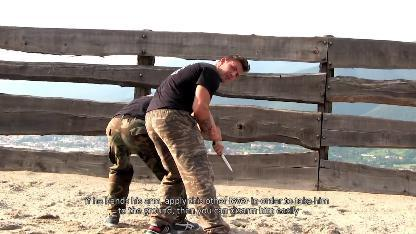knife: (210, 140, 234, 173)
